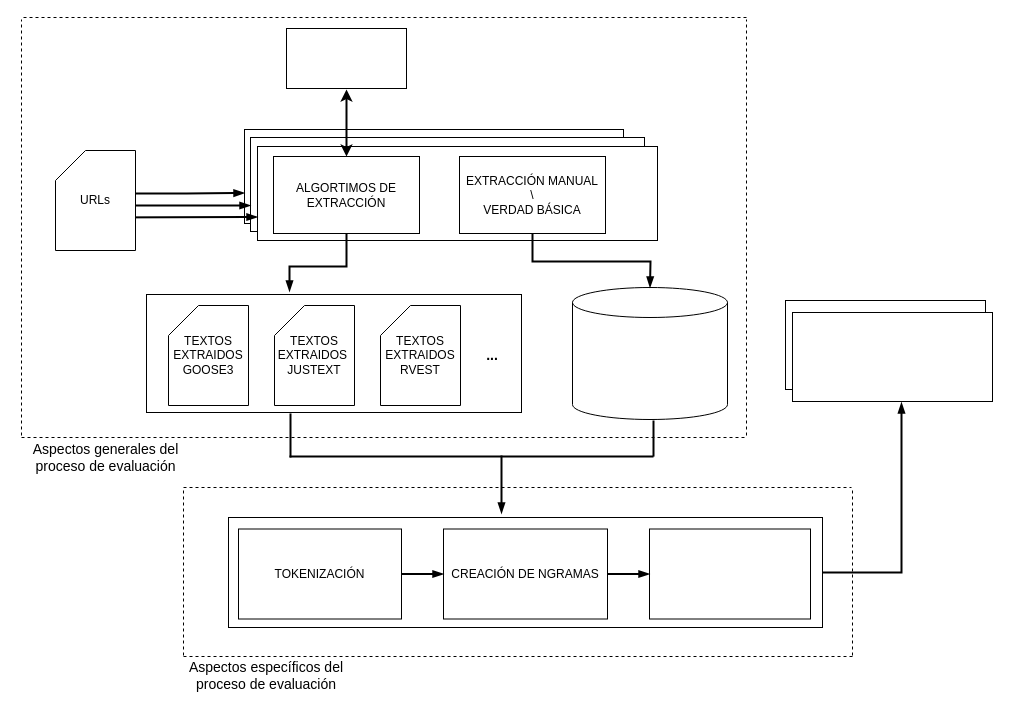
This 1010x725 diagram has some shape labels left out. The centre of each missing label's shape, as x and y in pixels:
ANALIZADORES: pixel 346 58
CALCULO PUNTUACIÓN DE METRICAS: pixel 729 573
EVALUACIÓN Y ANÁLISIS DE LAS METRICAS OBTENIDAS: pixel 892 357
TEXTOS EXTRAIDOS MANUALMENTE VERDAD BASICA: pixel 650 353
